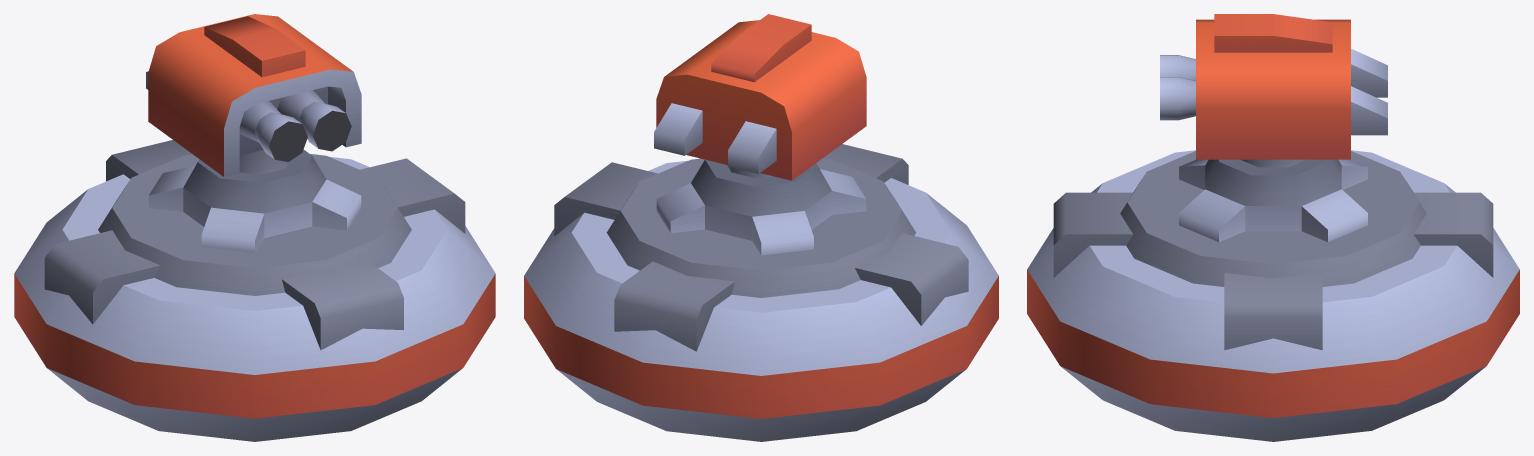
File: enemy-ufo-a-weapon.fbx
3 renders of one model, left to right at view 1: azimuth 30°, elevation 25°; view 2: azimuth 150°, elevation 25°; view 3: azimuth 270°, elevation 25°, orthographic. The views are drawn at different scales.
Visible parts, largest first — view 1: enemy-ufo-a-weapon, barrel; view 2: enemy-ufo-a-weapon, barrel; view 3: enemy-ufo-a-weapon, barrel.
Part boxes in pixels (bbox=[...]): enemy-ufo-a-weapon: bbox=[14, 140, 495, 441]; barrel: bbox=[146, 14, 361, 176]; enemy-ufo-a-weapon: bbox=[524, 144, 998, 441]; barrel: bbox=[654, 14, 866, 180]; enemy-ufo-a-weapon: bbox=[1027, 150, 1519, 441]; barrel: bbox=[1160, 14, 1387, 159].
Bounding box in the file's own units: 100 × 74.75 × 100.
